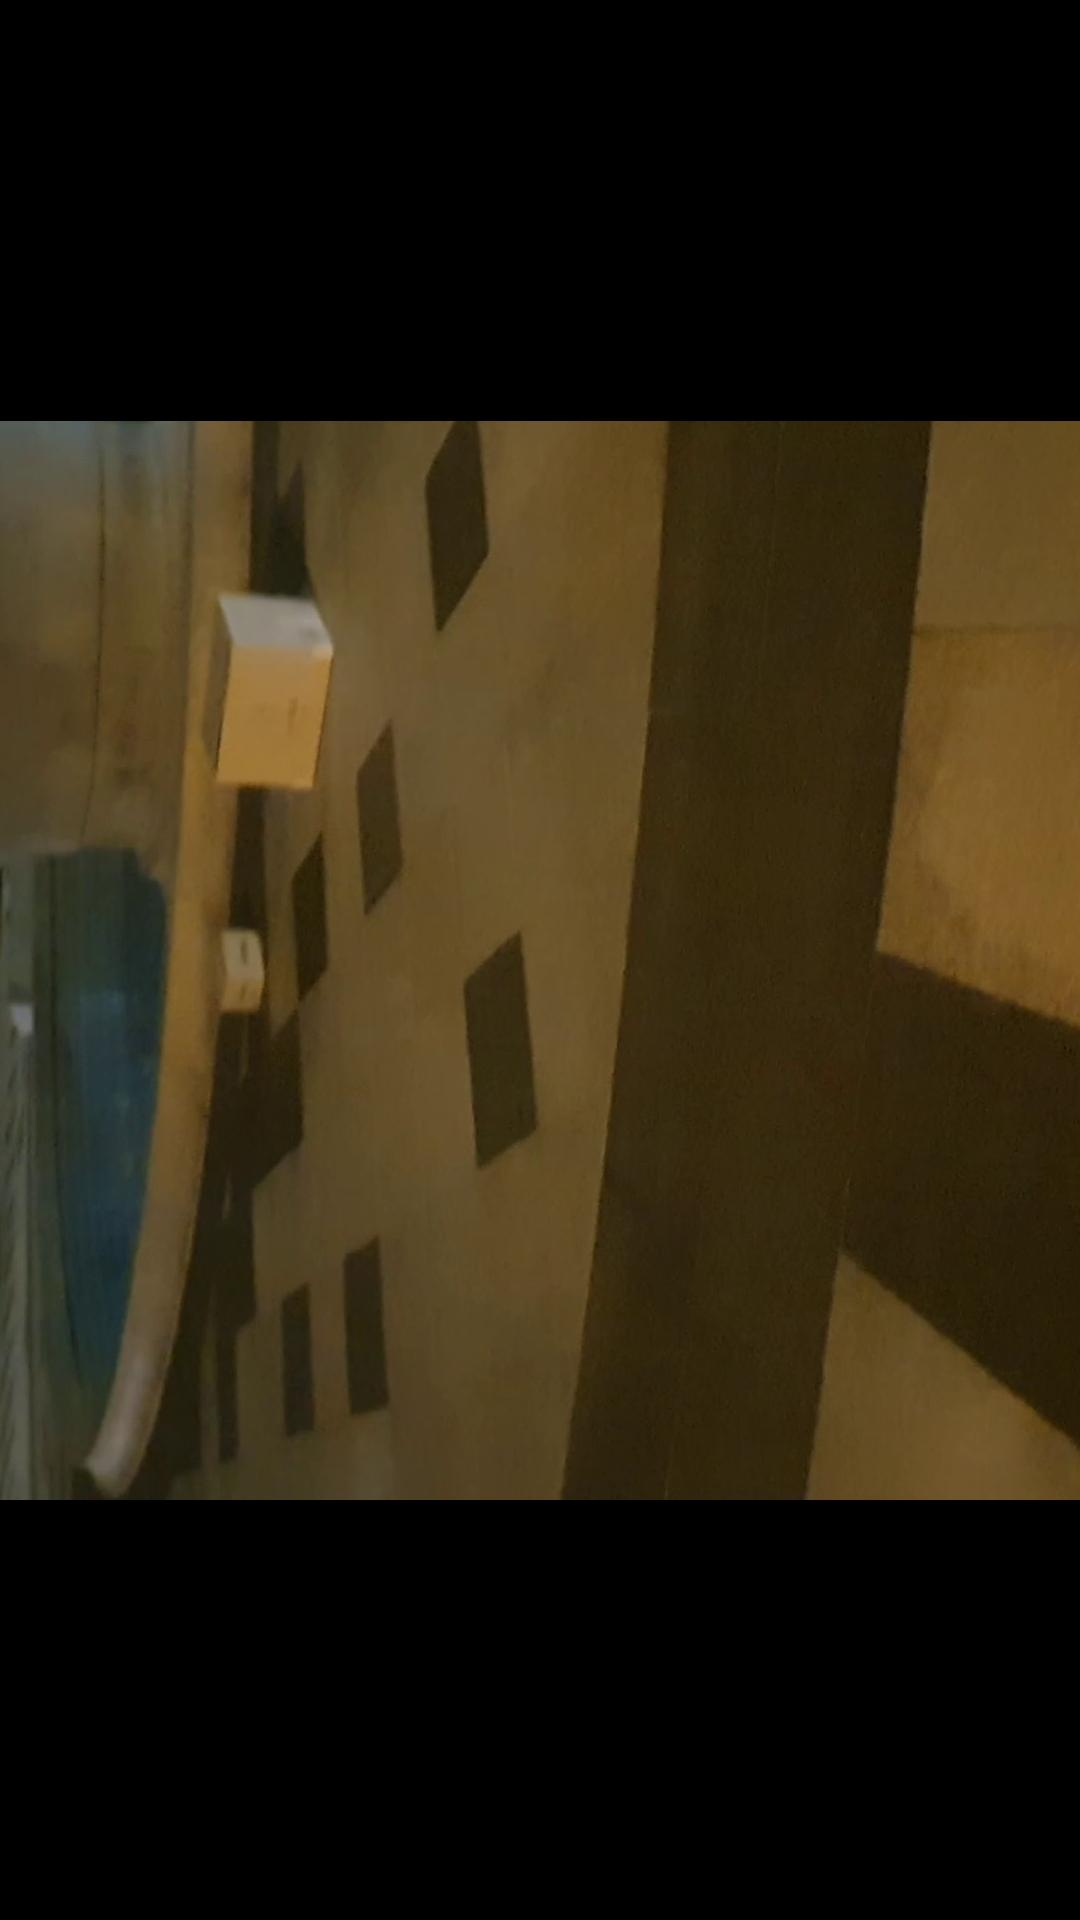Box: (183, 589, 335, 799), (195, 915, 276, 1029)
